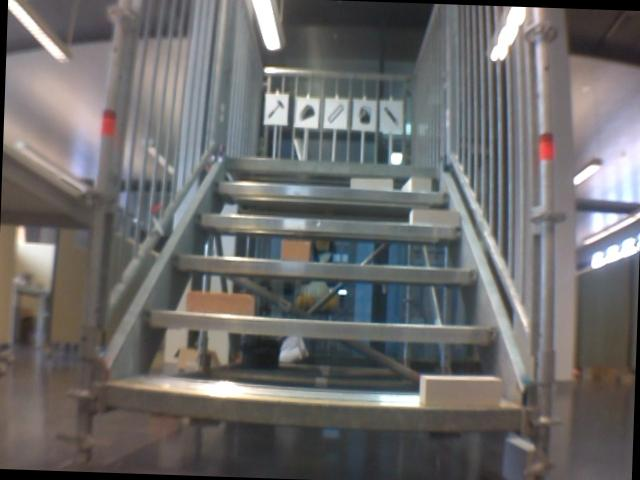brick: (418, 374, 501, 408), (186, 290, 254, 314), (409, 210, 460, 225), (282, 240, 309, 261), (349, 178, 391, 190), (403, 176, 431, 191)
bucket: (356, 103, 374, 125)
edge: (102, 384, 524, 432), (140, 309, 498, 345), (171, 253, 478, 283), (194, 214, 463, 237), (211, 182, 449, 203), (224, 156, 439, 176)
hammer: (265, 99, 284, 121)
pencil: (381, 103, 400, 129)
ruler: (325, 101, 343, 124)
steps: (94, 150, 535, 437)
taco: (297, 100, 315, 123)
